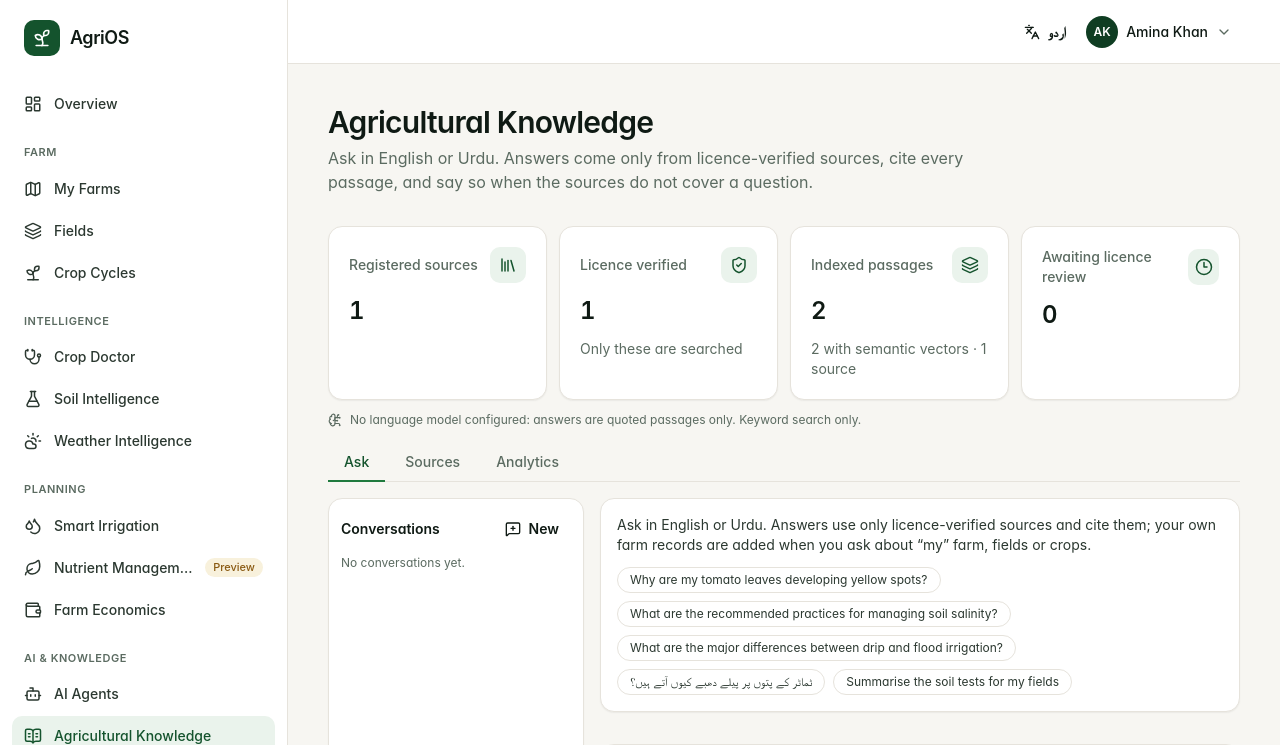
it: Agricultural Knowledge (FR8 RAG) › gives administrators source registration and measured analytics
Click the tab "Analytics".
click(528, 463)  # box [480,444,575,482]
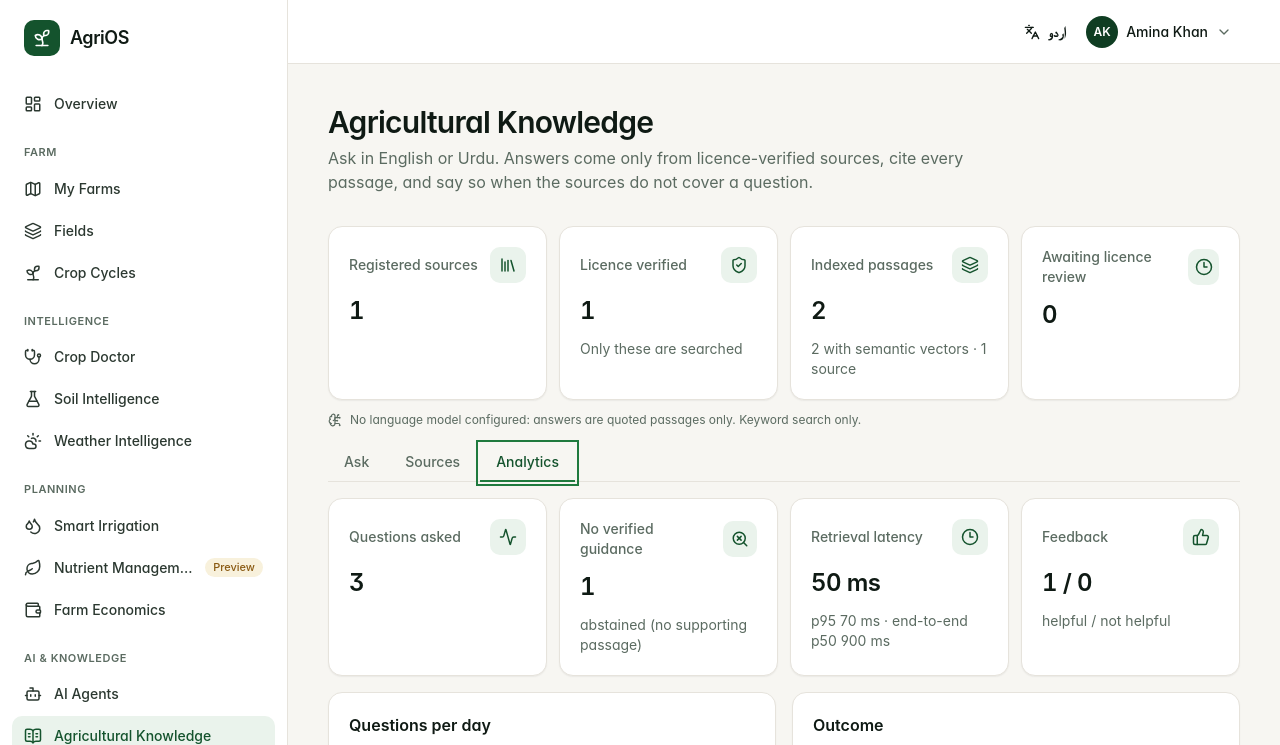
Result: the text "50 ms" is shown at [811,568,880,597]
Click the tab "Sources".
click(433, 463)  # box [389,444,476,482]
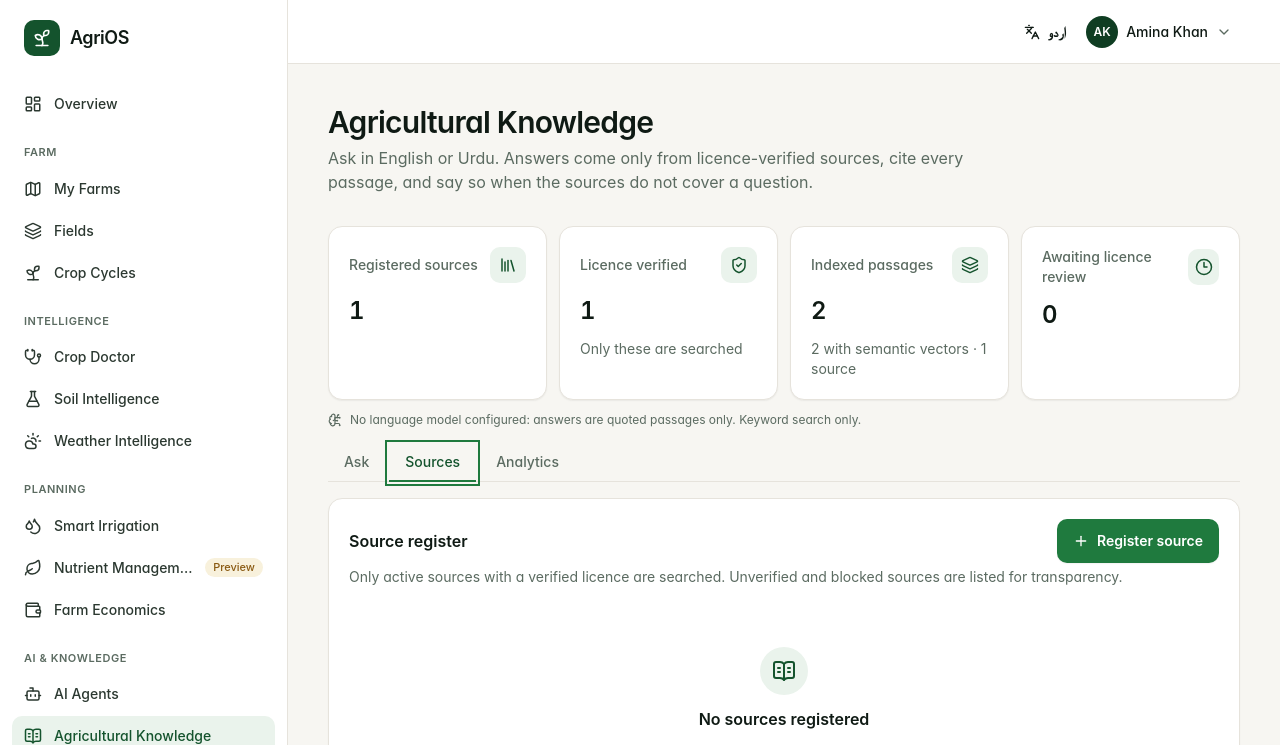
Result: the button "Register source" is shown at [1057,519,1219,563]
